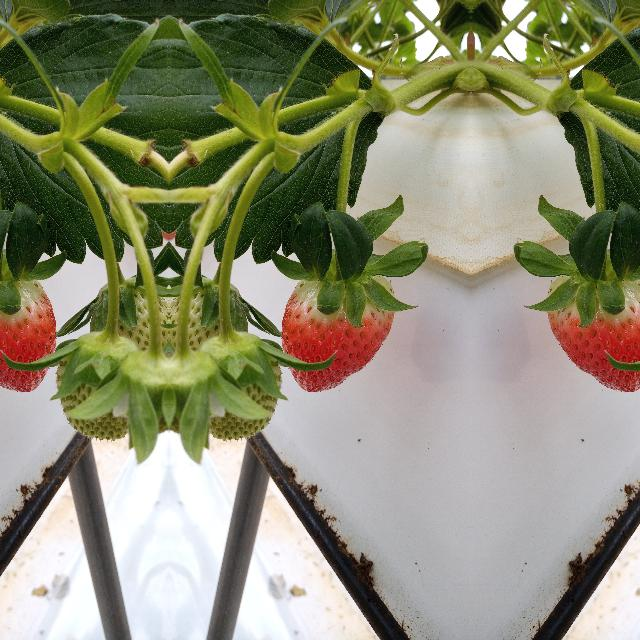Health_25: (200, 328, 294, 442), (42, 328, 136, 442)
Health_75: (280, 274, 396, 394), (545, 274, 640, 393), (0, 274, 55, 393)
